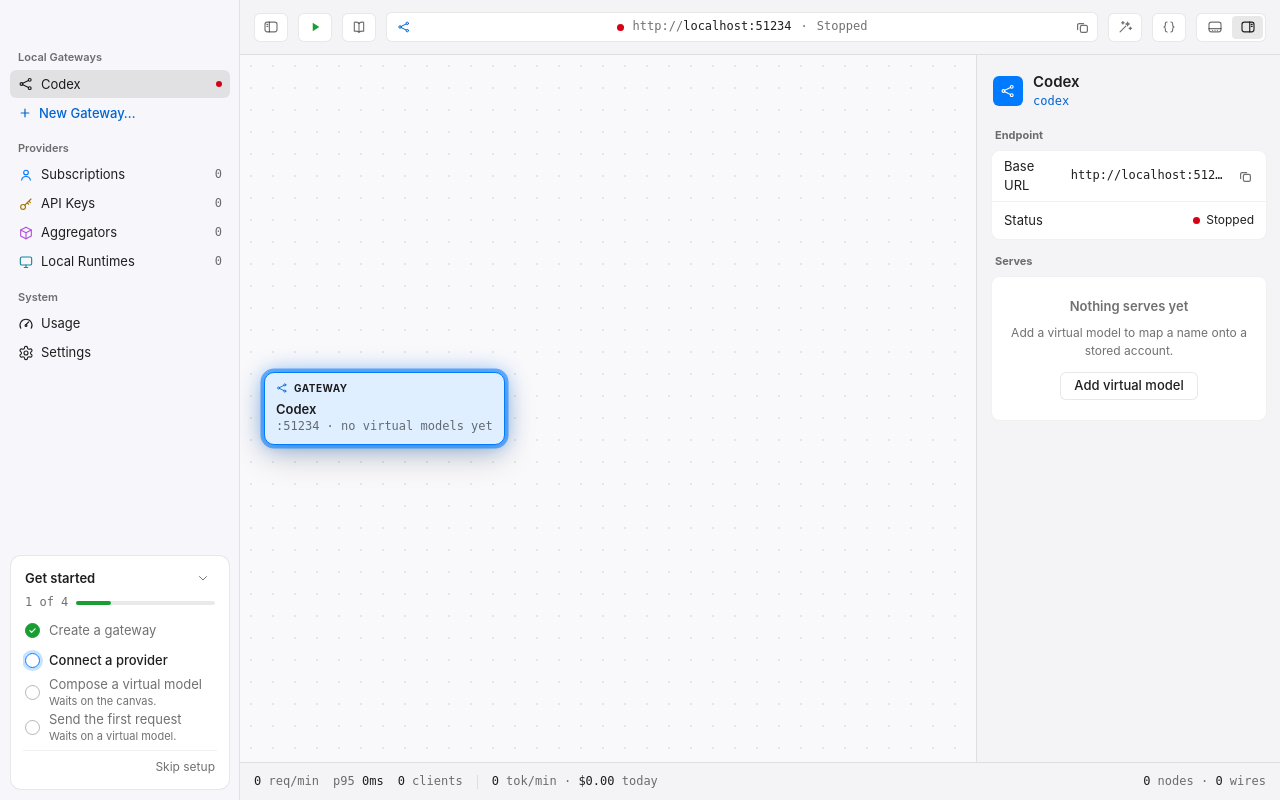
Scenario: a press on the node that opens the inspector closes it once, never twice
The width and height of the screenshot is (1280, 800).
Click the button "Gateway Codex :51234 · no virtual models yet": (384, 408) [264,372,505,445]
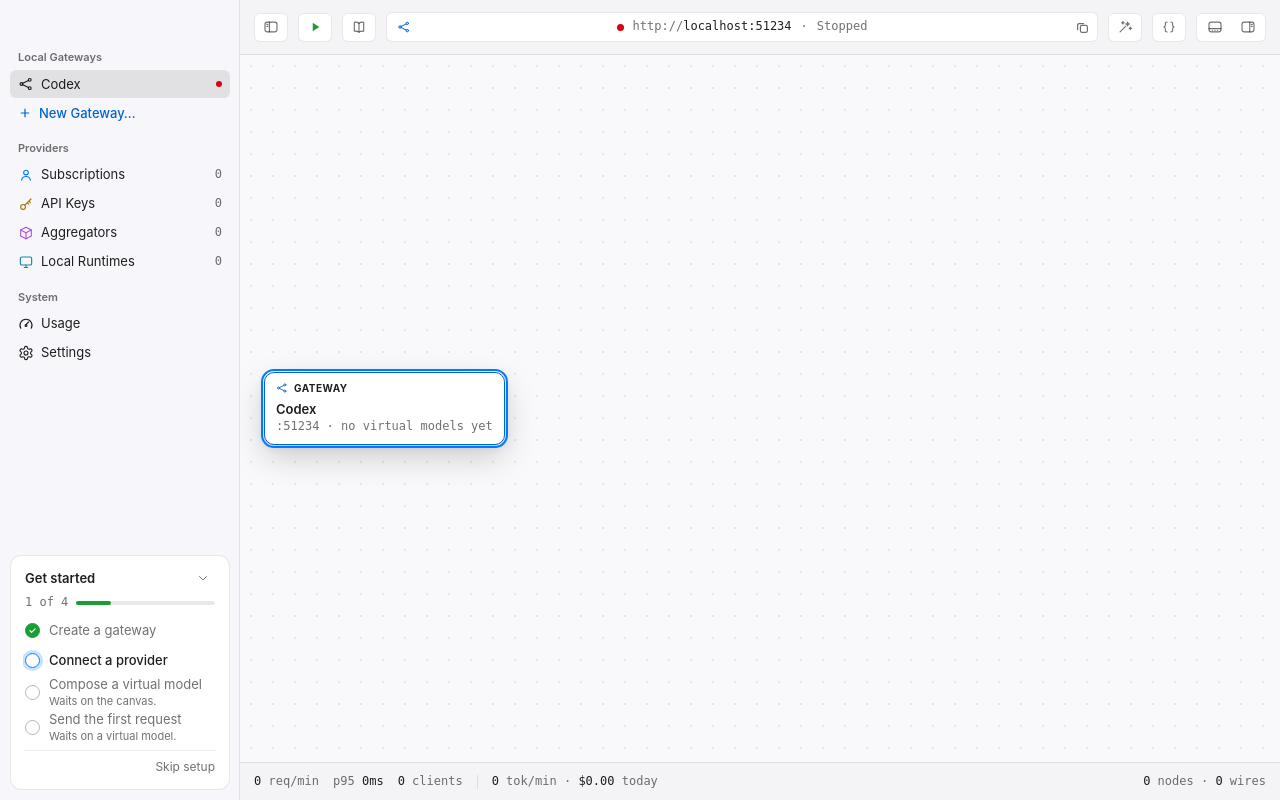
Click the button "Gateway Codex :51234 · no virtual models yet": (384, 408) [264,372,505,445]
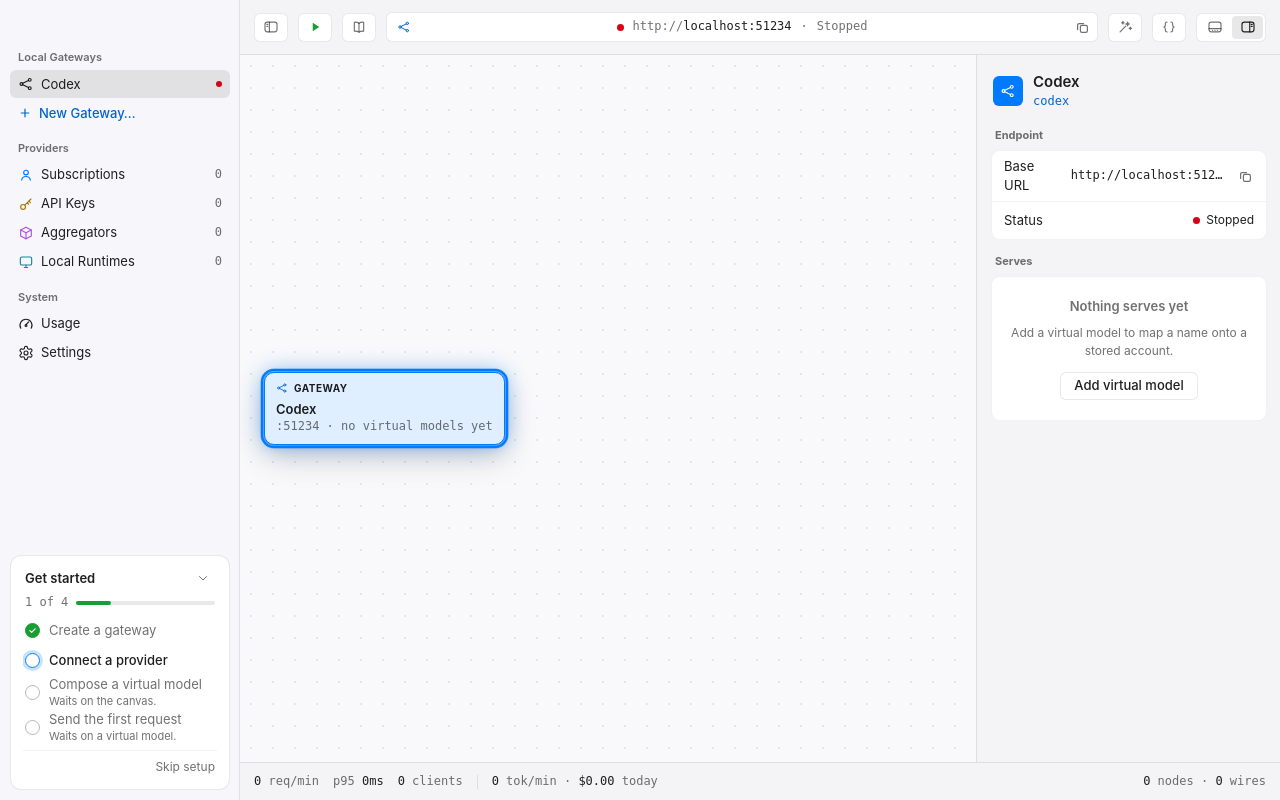
Result: the text "Endpoint" is shown at [995,128,1043,144]
